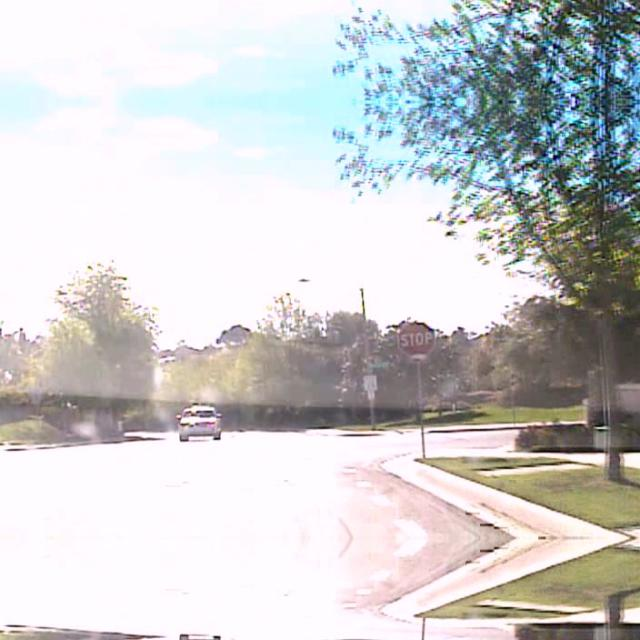stop: (396, 320, 434, 356)
